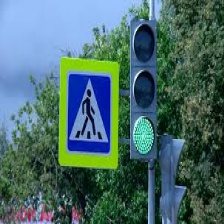semaforo: (129, 20, 157, 159)
